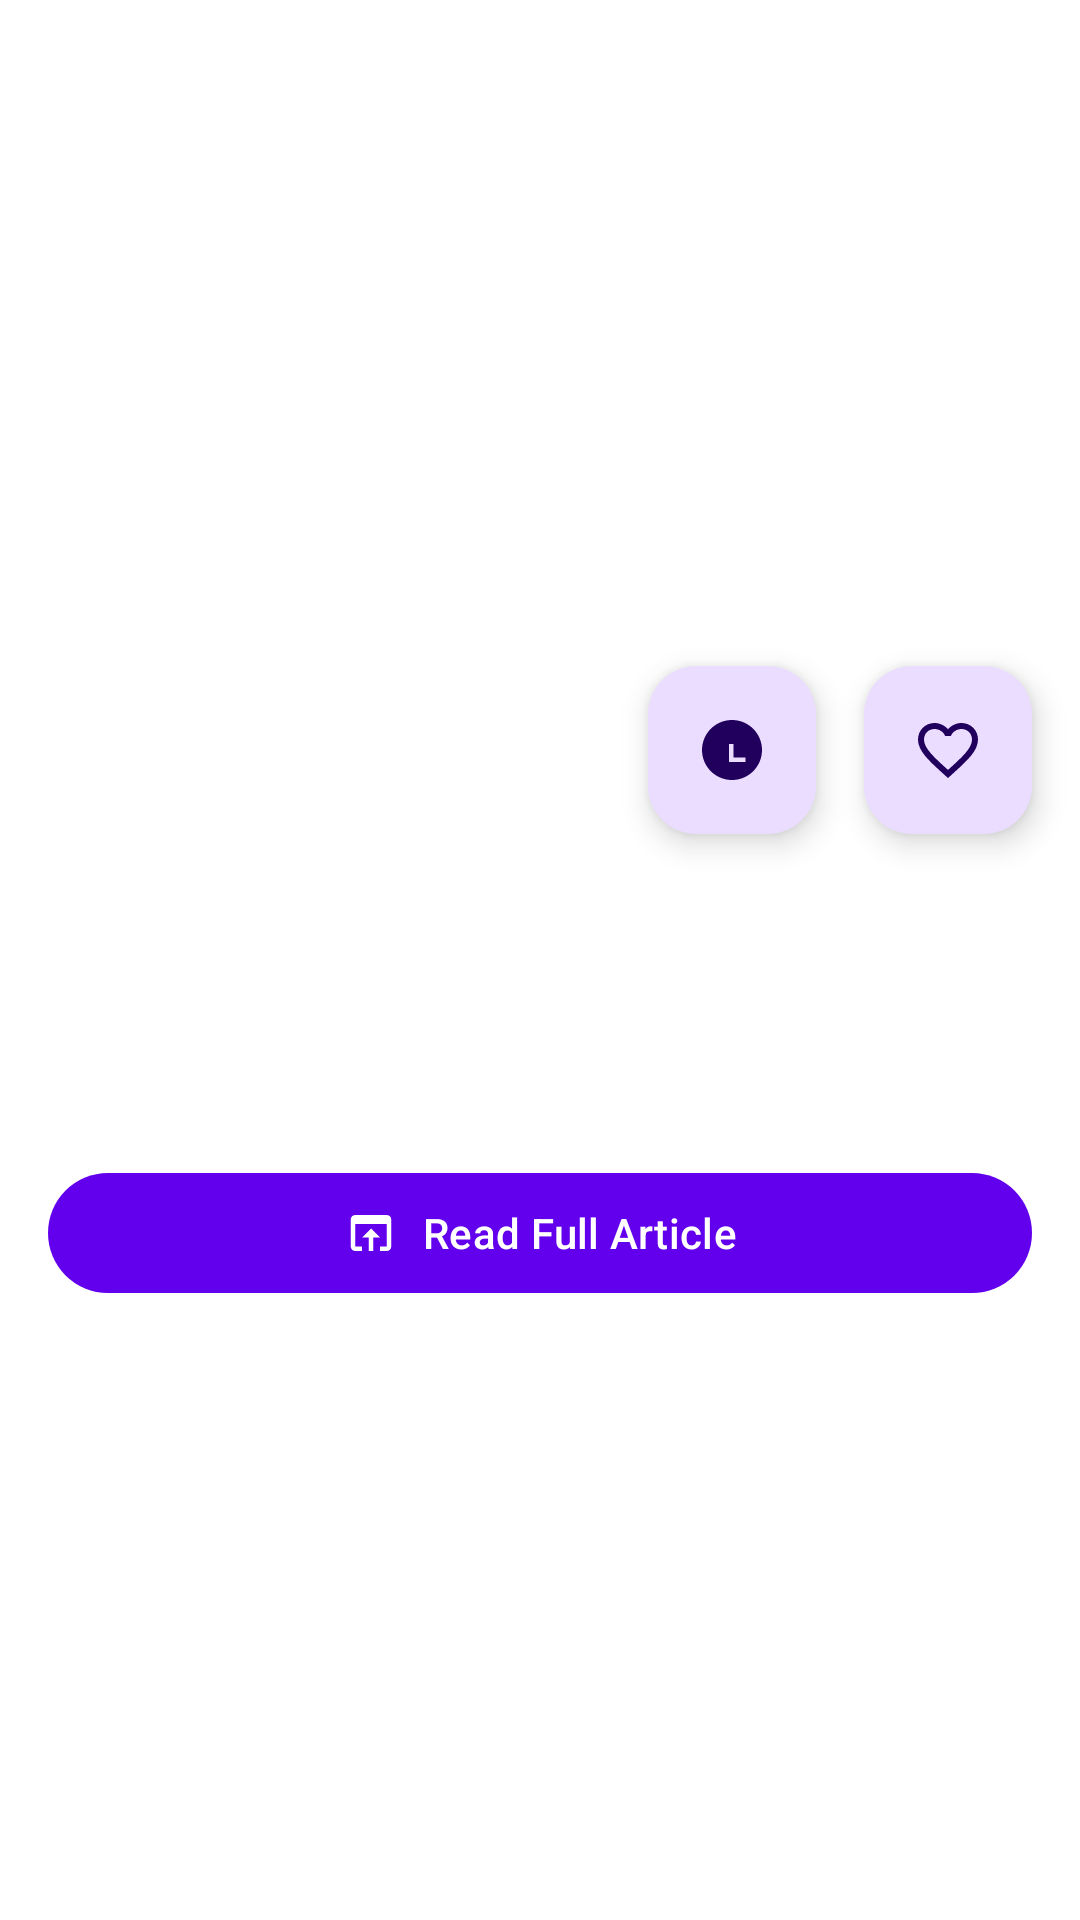

Point at icon controls on the screen. Image size 1080*1920, points as [x,y].
favorite border: [948,750]
watch later: [732,750]
